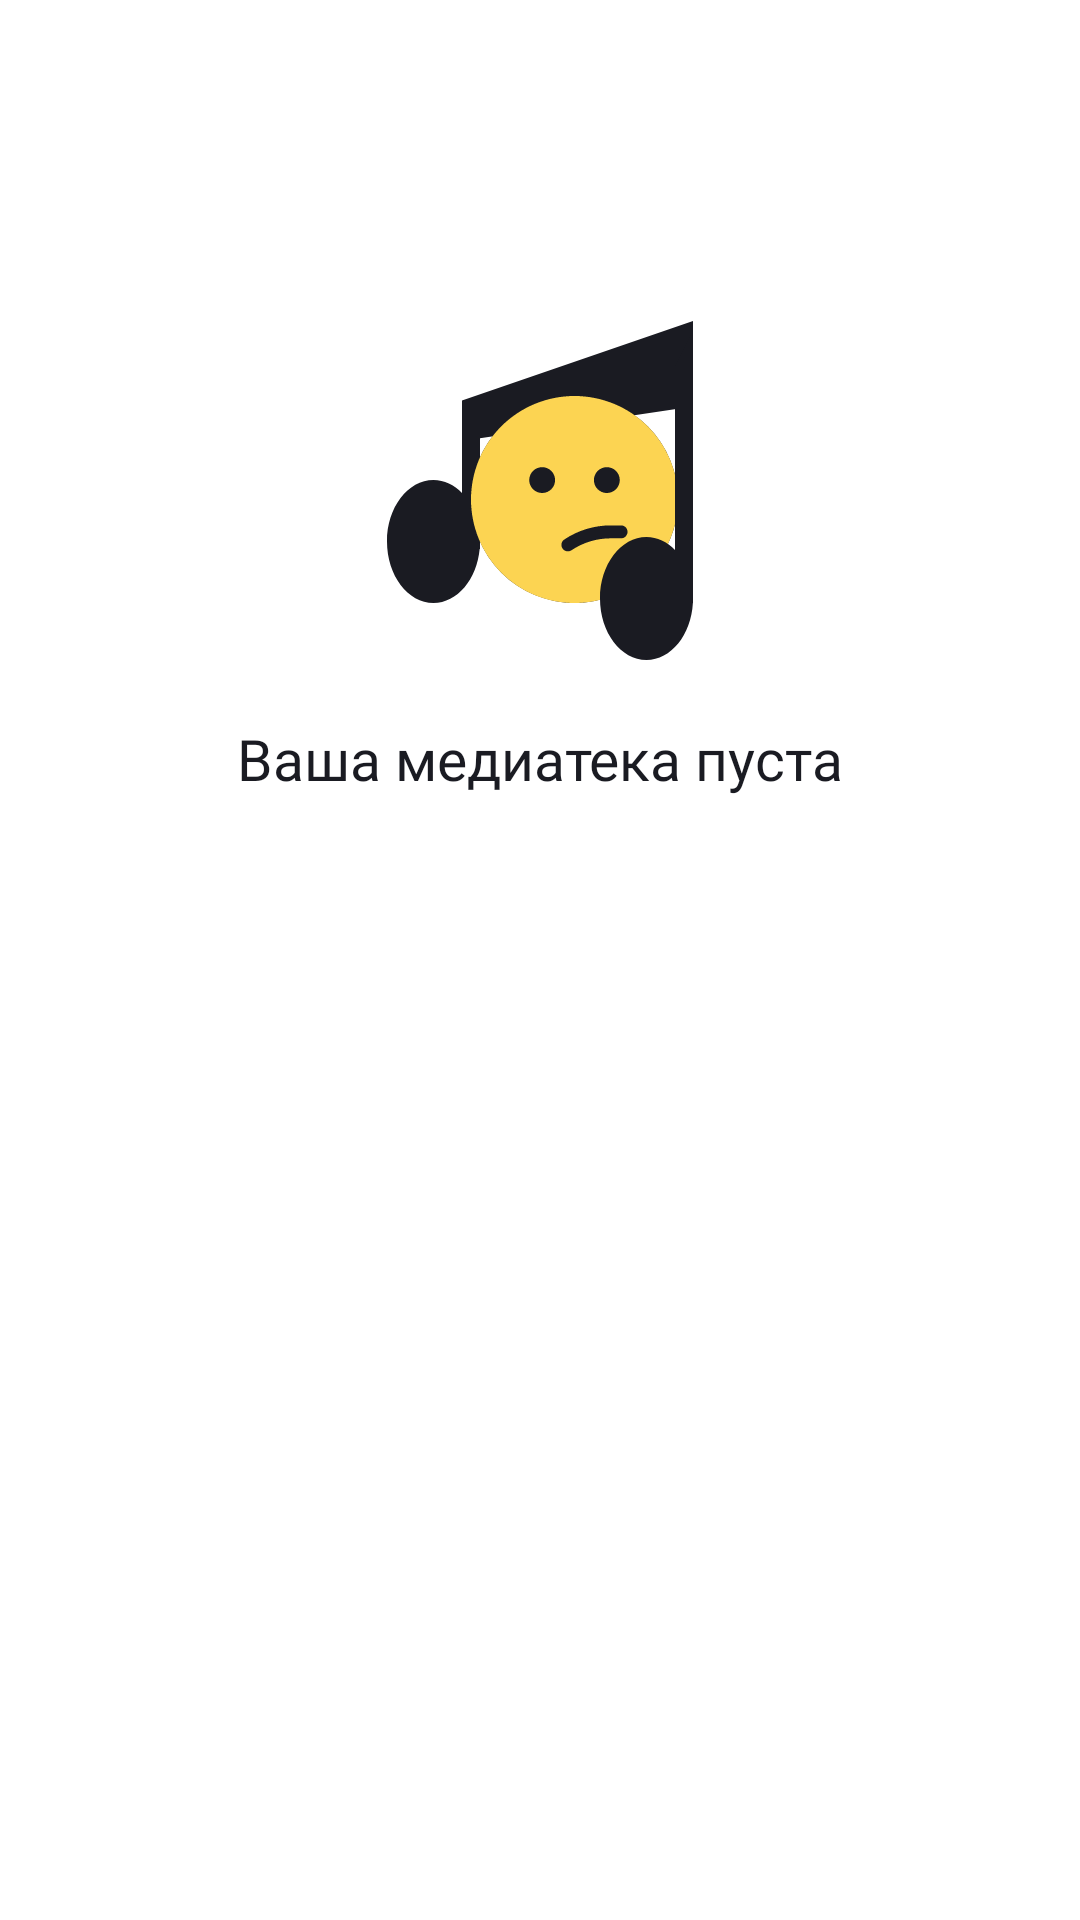

Icons on this 1080*1920 Android screen, each with the point to tap as (x,y):
nothing found: (540,490)
